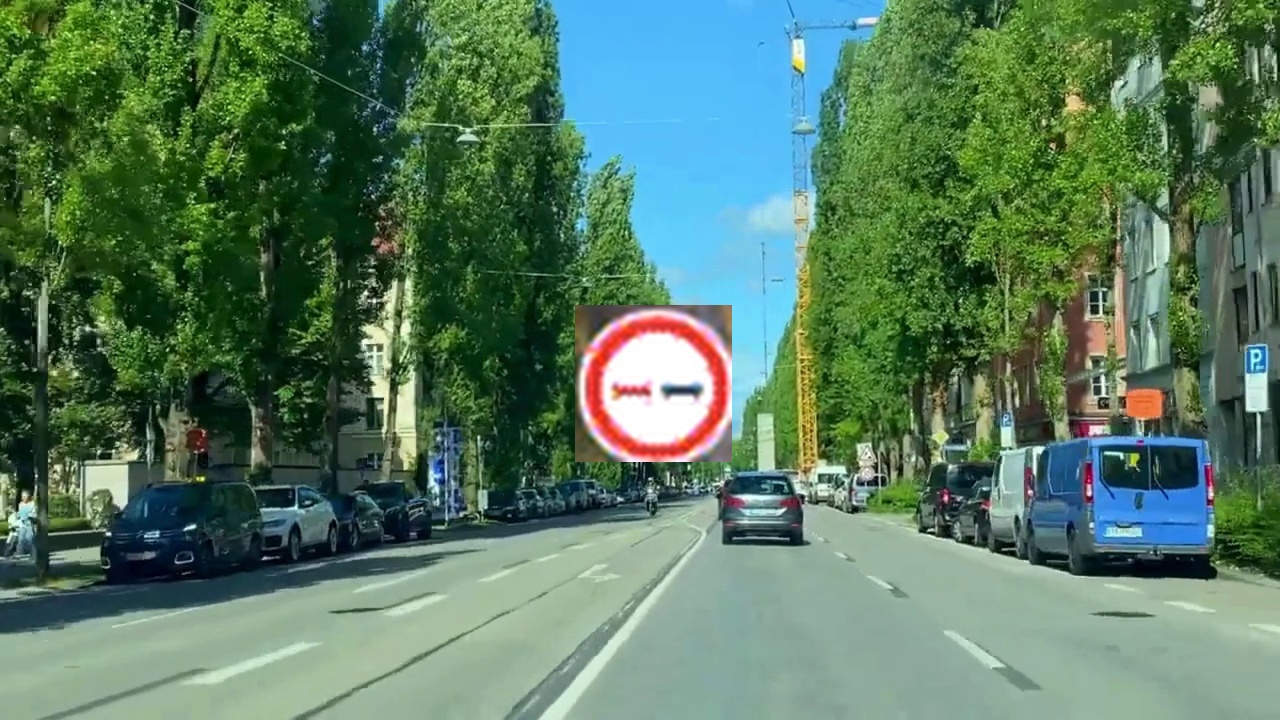No passing: (575, 305, 732, 462)
